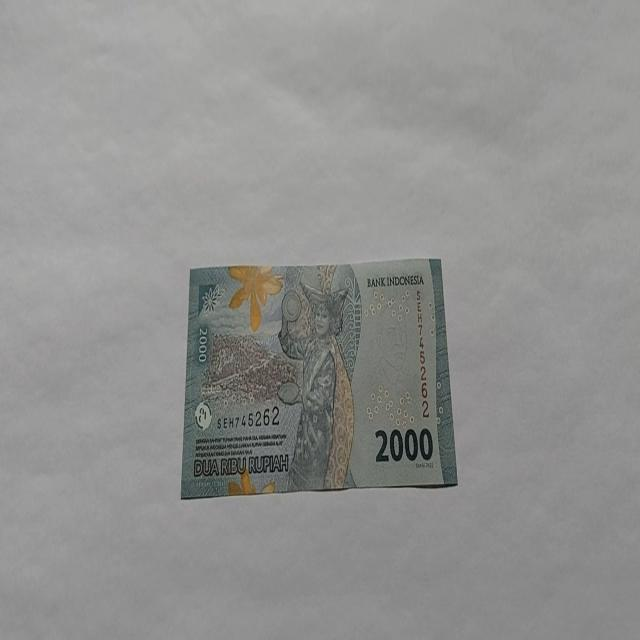dua ribu rupiah: (180, 256, 458, 498), (276, 278, 356, 492)
